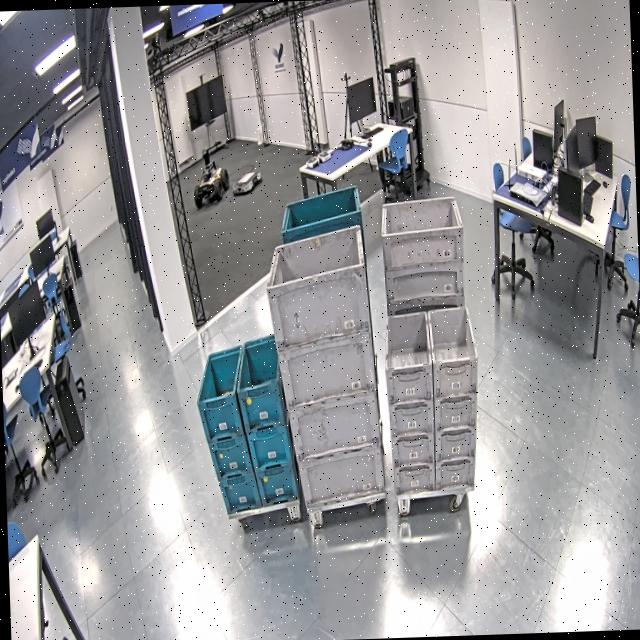Box3G: (376, 197, 466, 264), (382, 259, 467, 306)
Box4G: (264, 227, 372, 351), (276, 329, 380, 410), (280, 390, 382, 463), (296, 446, 386, 508)
Box8G: (378, 308, 433, 404), (427, 302, 479, 398), (386, 366, 436, 408), (388, 400, 436, 440), (432, 397, 478, 436), (389, 434, 436, 469), (433, 430, 477, 466), (432, 457, 476, 492), (392, 465, 436, 497)
BoxB4: (276, 182, 367, 278)
BoxB8: (187, 343, 247, 442), (236, 334, 290, 432), (250, 461, 302, 511), (204, 436, 253, 486), (242, 427, 296, 472), (220, 462, 260, 518)
